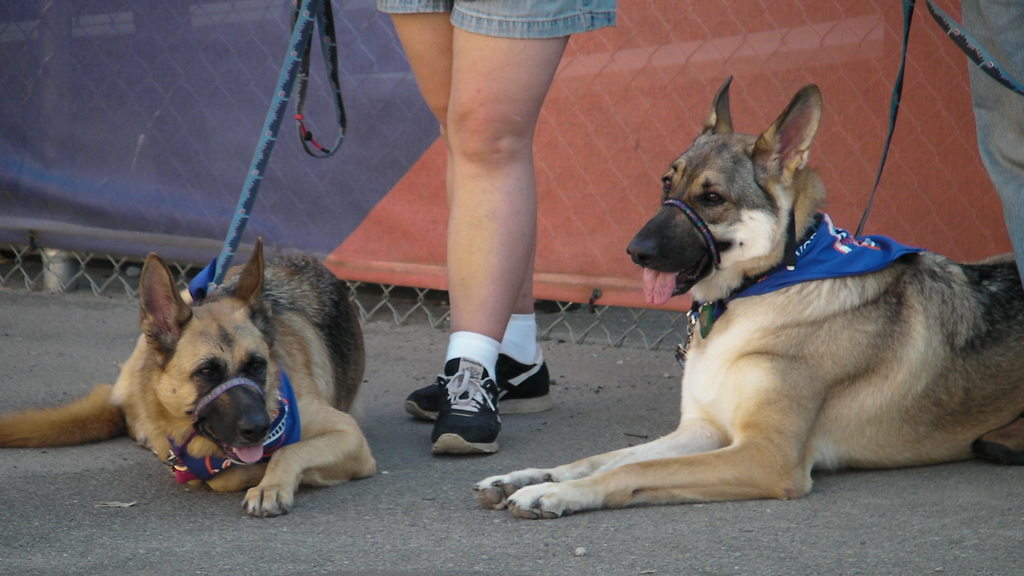Person: (376, 0, 615, 453), (959, 0, 1024, 466)
